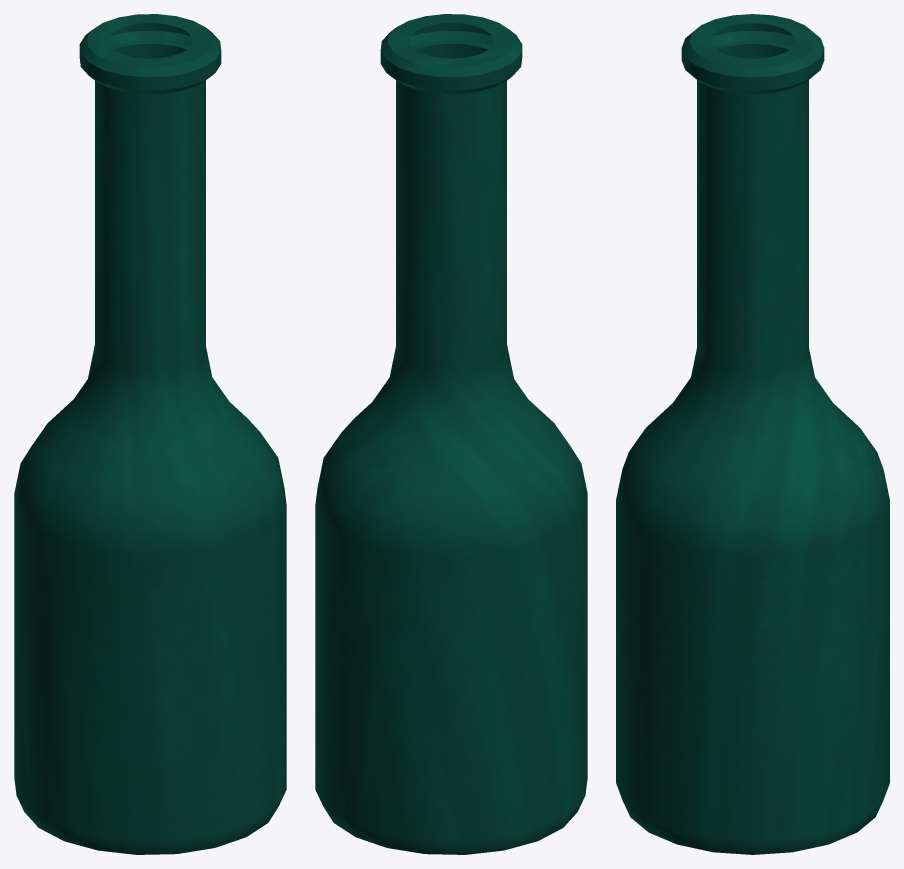
Rendered from bottle.fbx.
3 renders of one model, left to right at view 1: azimuth 30°, elevation 25°; view 2: azimuth 150°, elevation 25°; view 3: azimuth 270°, elevation 25°, orthographic.
Parts seen in each view (by area): view 1: bottle; view 2: bottle; view 3: bottle.
Part boxes in pixels (x1,y1,x2,y2): bottle: [14, 14, 286, 854]; bottle: [315, 14, 587, 854]; bottle: [616, 14, 889, 854].
Size of the model in its own units: 22.77 by 70.34 by 22.77.
